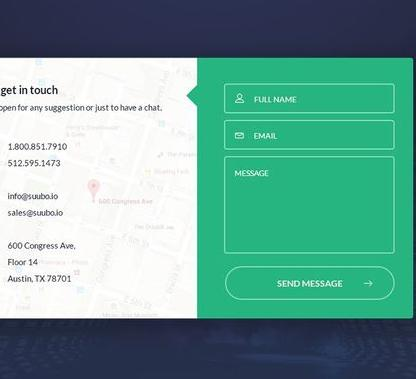button: (222, 264, 395, 302)
field: (222, 154, 397, 256), (222, 117, 396, 151), (223, 82, 397, 114)
